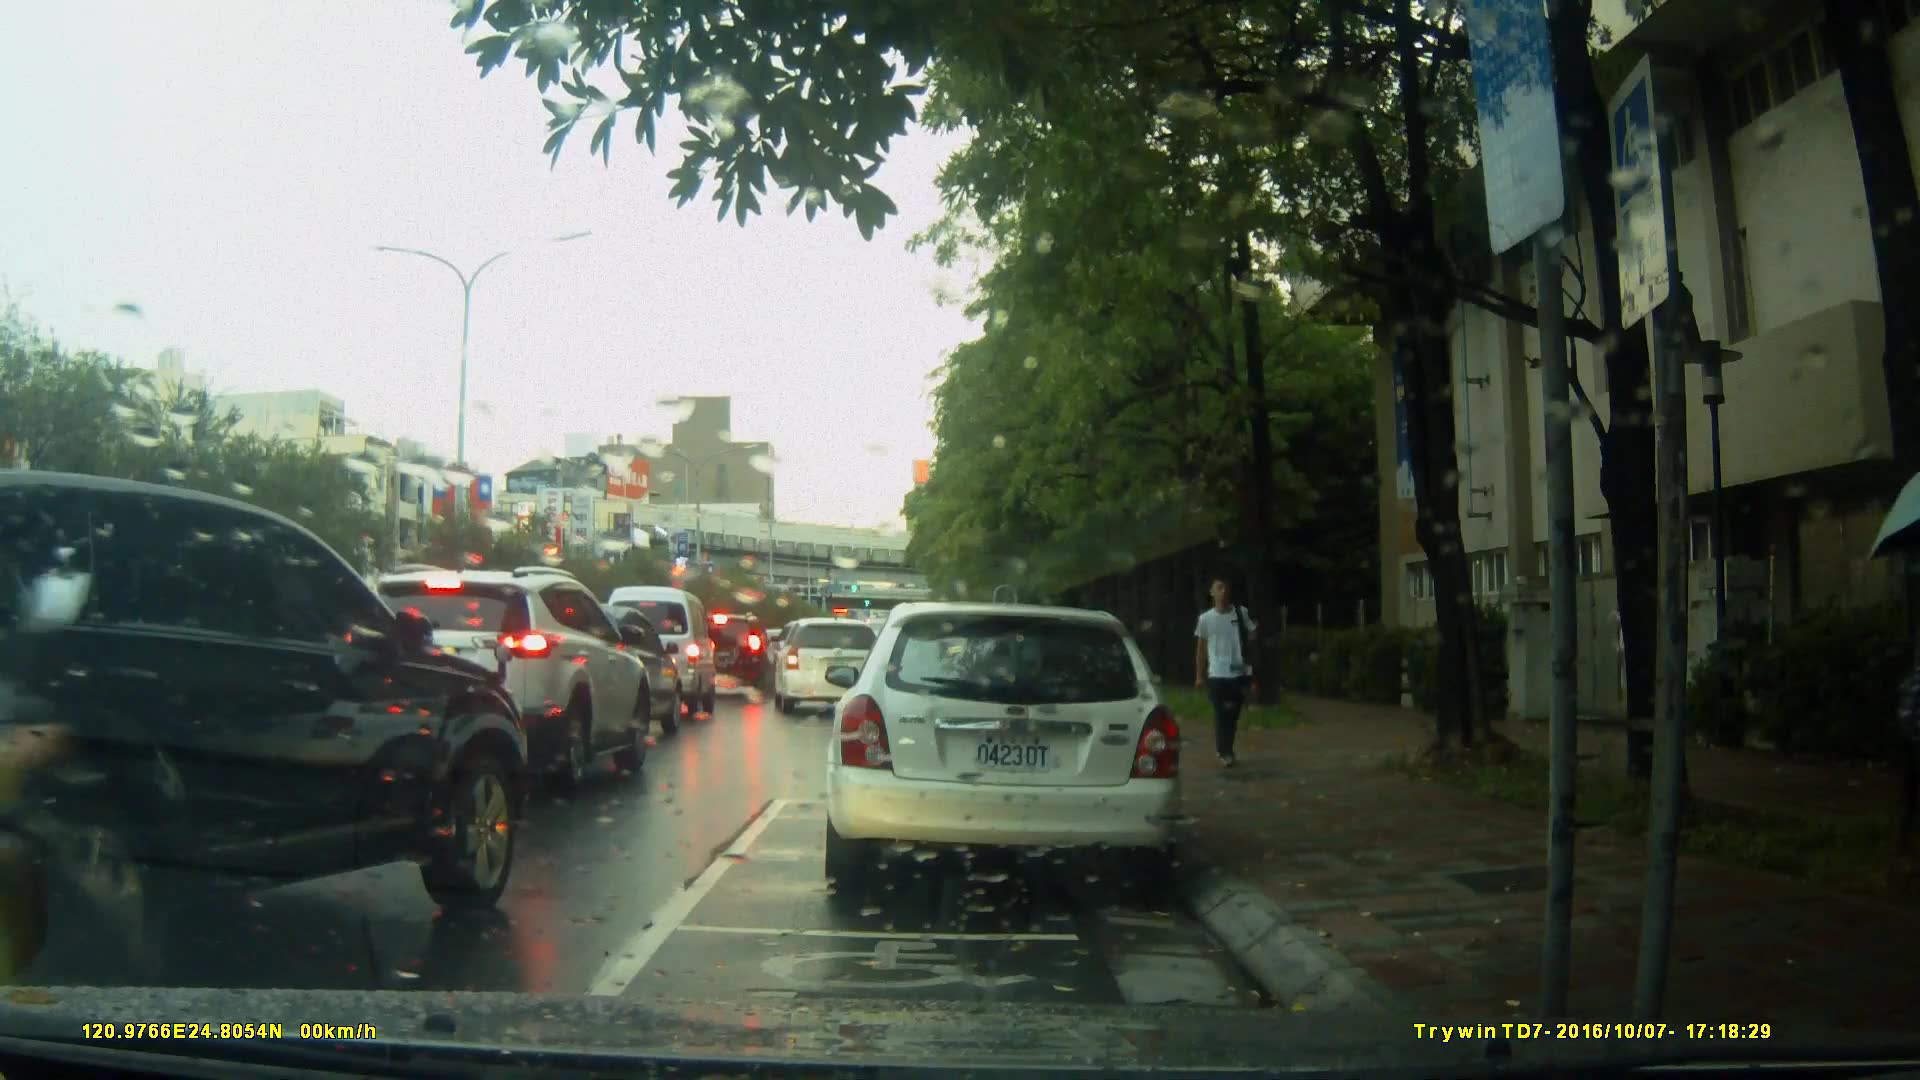pedestrian: (1189, 567, 1267, 785)
vehicle: (1, 469, 532, 988), (820, 602, 1188, 898), (339, 563, 659, 791), (529, 603, 690, 737), (597, 585, 722, 722), (772, 617, 890, 715), (681, 611, 773, 700)
